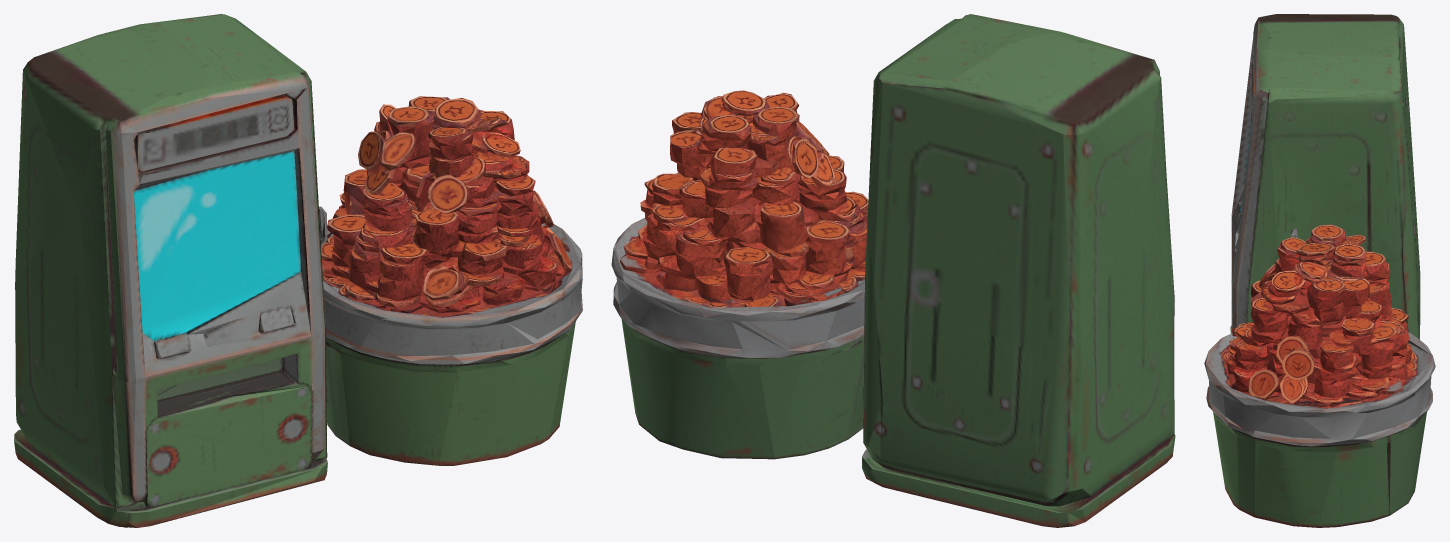
3 views of the same model, side by side, from view 1: azimuth 30°, elevation 25°; view 2: azimuth 150°, elevation 25°; view 3: azimuth 270°, elevation 25° (orthographic). The views are drawn at different scales.
Bounding box in the file's own units: 1.9 × 1.52 × 0.9447.
1 material, 1 textured.
